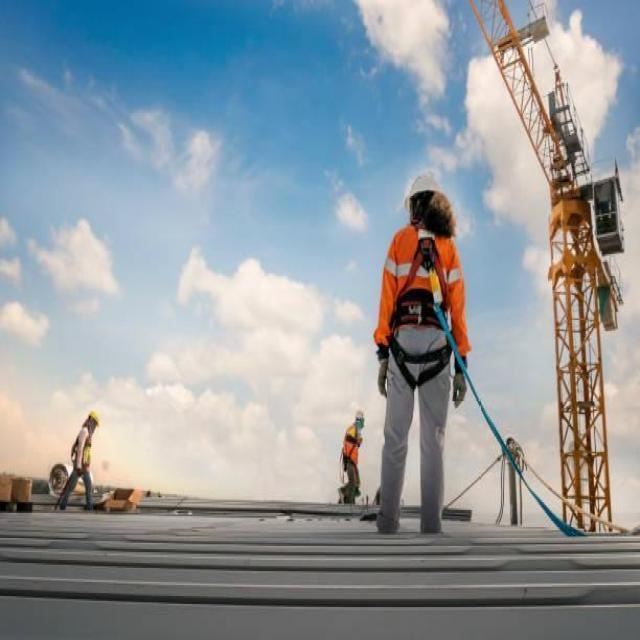Arnes_seguridad: (392, 222, 452, 387)
